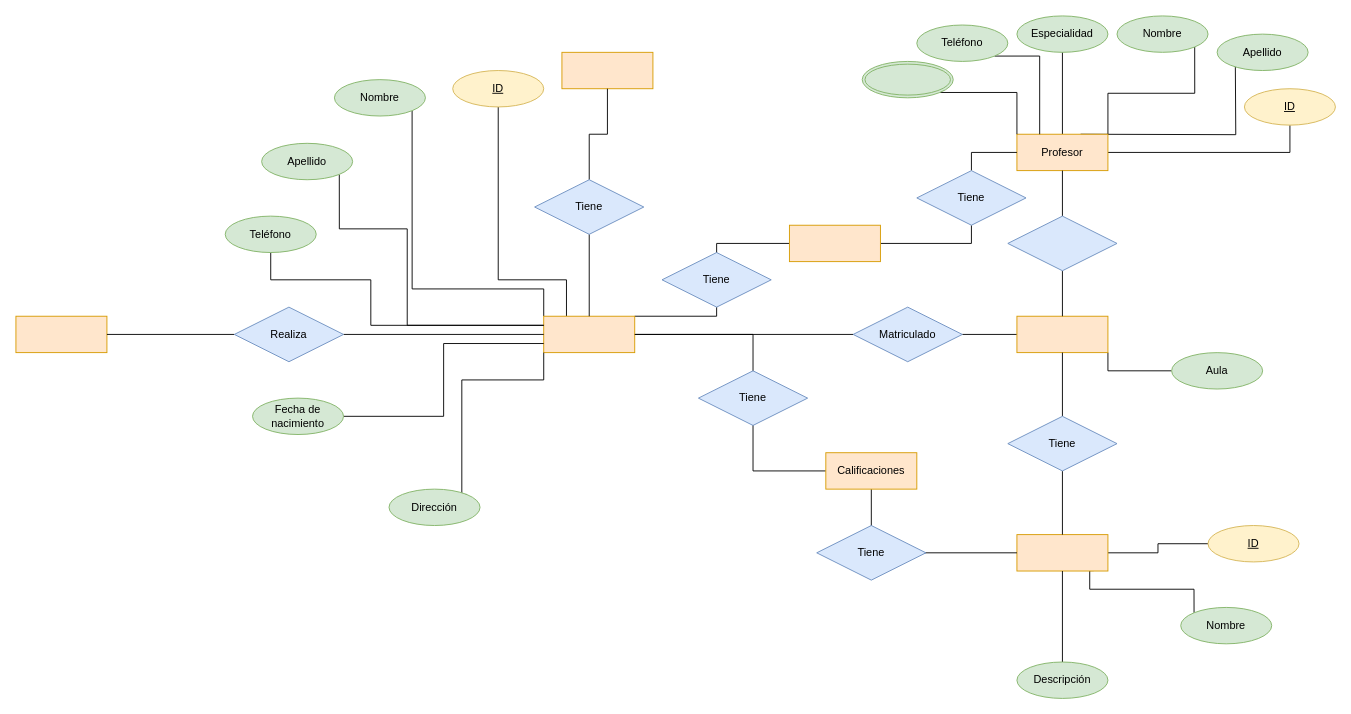
Image size: 1351x714. Some labels were removed from this diagram. The shapes that lost their labels are listed below. From the top down, each one's box as (x1, y1, x2, y2) in pixels, then its label:
(561, 51, 653, 89): Asistencia
(861, 61, 953, 98): Emails
(789, 224, 880, 262): Horario
(1007, 215, 1117, 271): Imparte
(15, 315, 107, 353): Actividades extracurriculares
(543, 315, 635, 353): Estudiante
(1016, 315, 1108, 353): Curso
(1016, 534, 1108, 571): Materias
